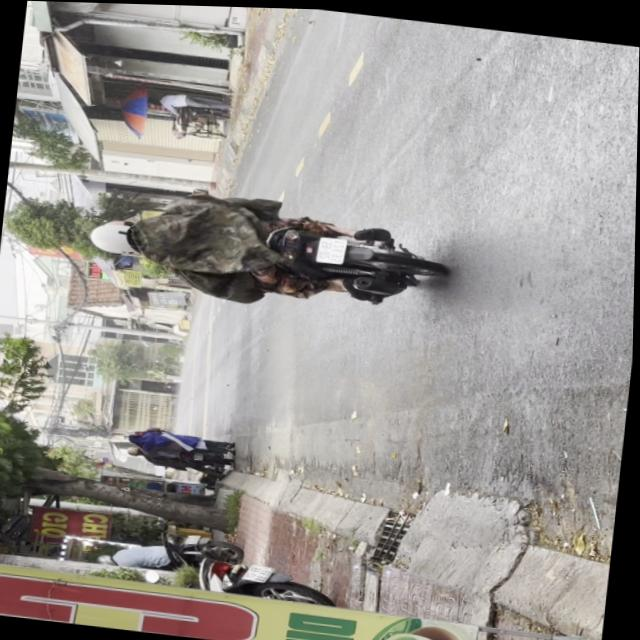helmet: (87, 213, 148, 256)
licenseplate: (78, 177, 452, 321)
nohelmet: (316, 232, 347, 260), (245, 560, 273, 580)
